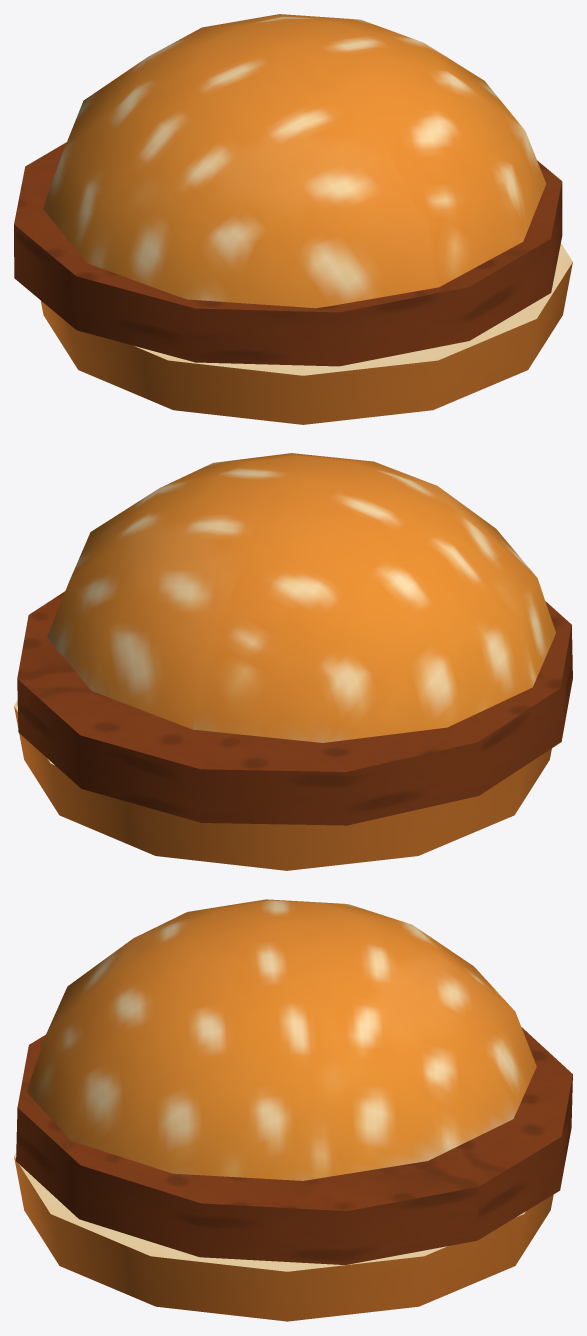
The model's file is DoubleCooked_Burger.fbx.
3 views of the same model, one above another, from view 1: azimuth 30°, elevation 25°; view 2: azimuth 150°, elevation 25°; view 3: azimuth 270°, elevation 25° (orthographic).
Parts seen in each view (by area): view 1: DoubleCooked_Burger; view 2: DoubleCooked_Burger; view 3: DoubleCooked_Burger.
Boxes of the visible parts, <box> form: DoubleCooked_Burger: <box>14,14,572,424</box>; DoubleCooked_Burger: <box>14,453,572,870</box>; DoubleCooked_Burger: <box>14,899,572,1321</box>.
Size of the model in its own units: 8.27 by 4.49 by 8.19.
Materials: 1 (1 with a texture image).
